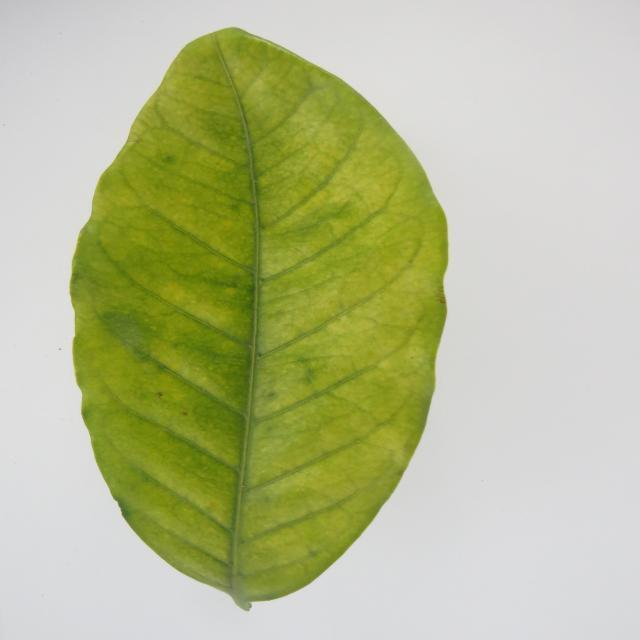DeficienciaNutricional-Manganeso: (72, 29, 447, 609)
